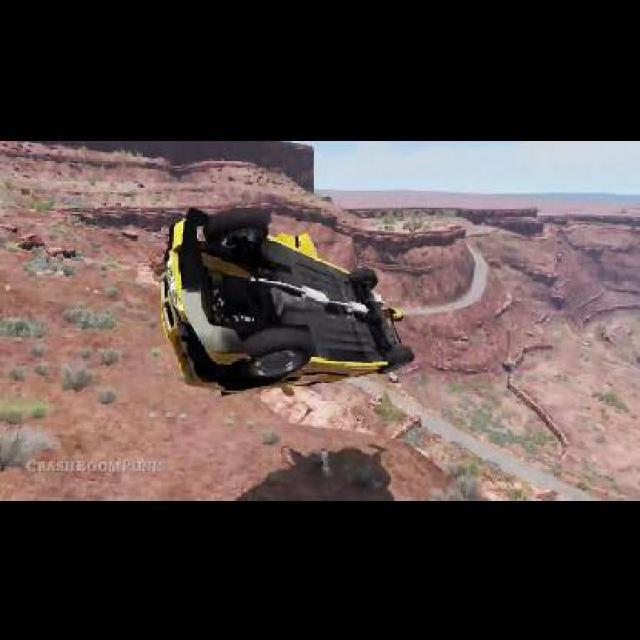accident: (162, 196, 420, 395)
